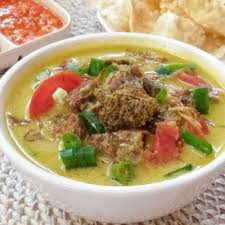soto: (11, 32, 225, 206)
